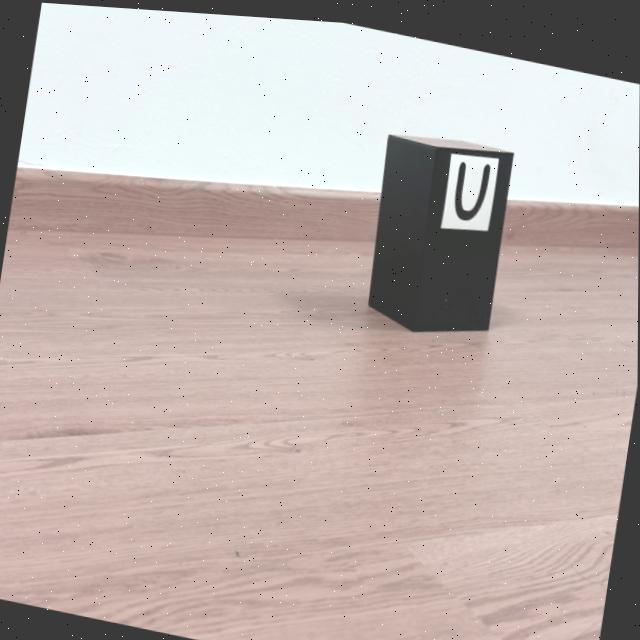U: (454, 156, 490, 214)
